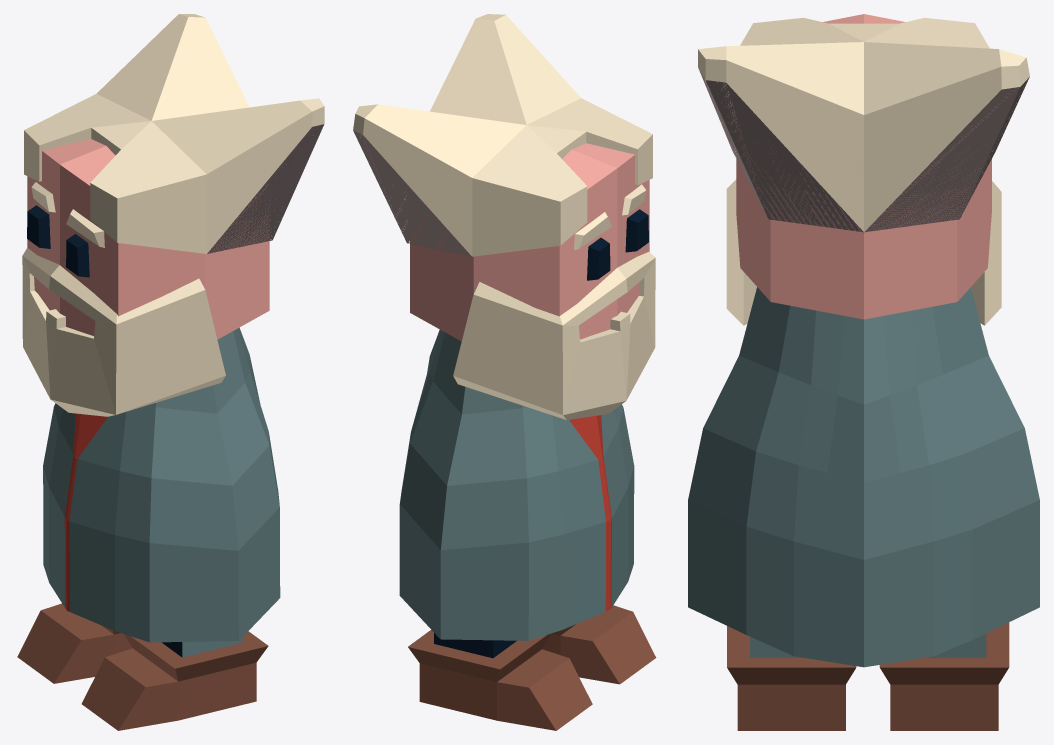
The model's file is SK_Cientific.fbx.
The picture shows the model from 3 angles, left to right: view 1: azimuth 30°, elevation 25°; view 2: azimuth 150°, elevation 25°; view 3: azimuth 270°, elevation 25°; orthographic projection. The views are drawn at different scales.
Visible parts, largest first — view 1: SK_Cientific; view 2: SK_Cientific; view 3: SK_Cientific.
Boxes of the visible parts, x1,y1,x2,y2 form: SK_Cientific: [17, 14, 324, 730]; SK_Cientific: [353, 14, 656, 730]; SK_Cientific: [688, 14, 1039, 730].
Size of the model in its own units: 55.15 by 142 by 63.84.
